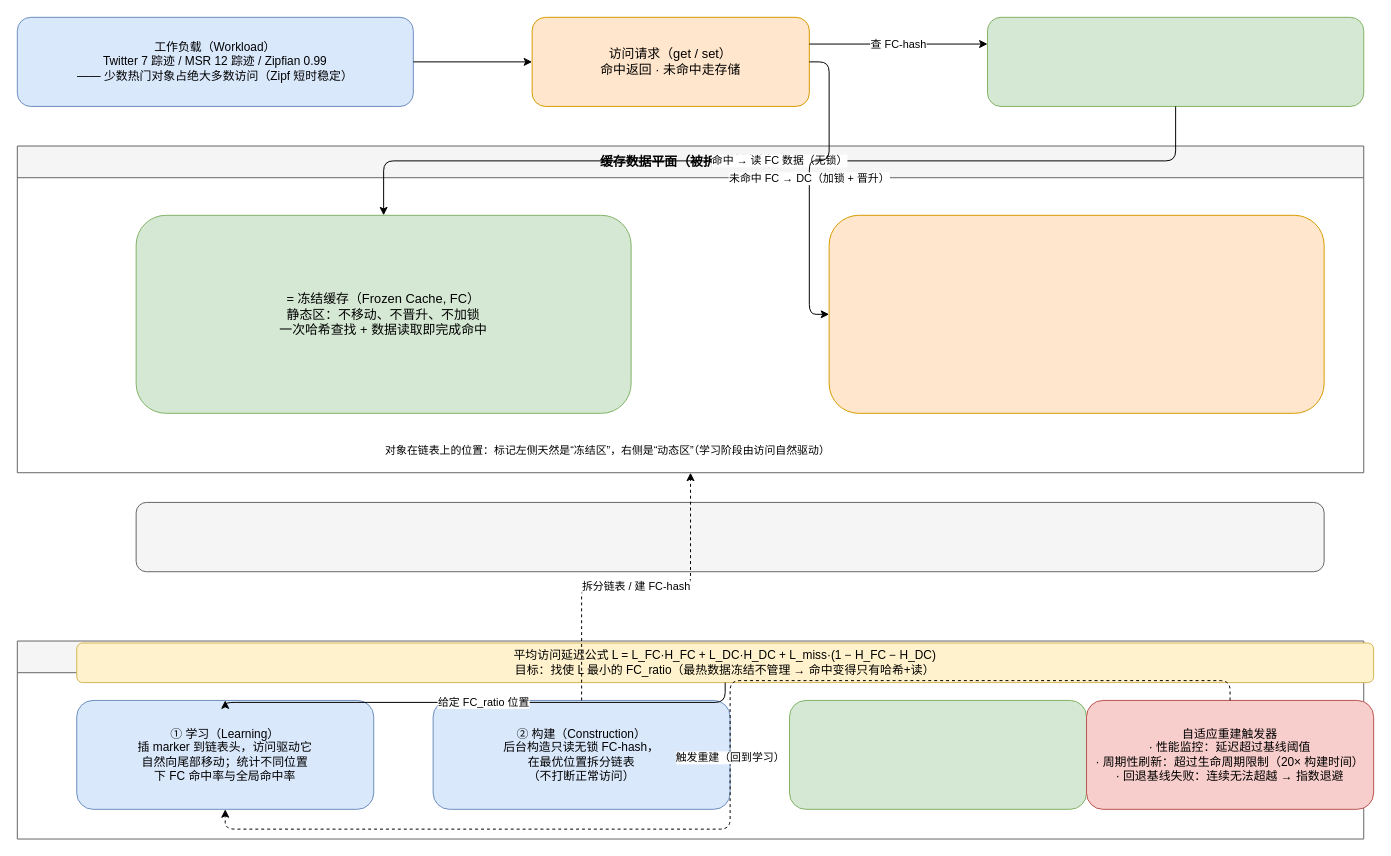
This 1391x856 diagram has some shape labels left out. Here are the shapes that lost their labels. From the top down, the centre of each, then its label:
point 1175,61: FC-hash：只读无锁哈希索引 放下层磁盘缓存热点，查询不需要锁
point 1076,313: = 动态缓存（Dynamic Cache, DC） 常规链表管理：LRU / LFU 命中需加锁 + 晋升到链头； 驱逐走正常路径
point 729,536: FC 命中：53%~93% 命中由 FC 服务 · 吞吐最高 +551%（72线程） DC 照常：命中率几乎不受影响（多数踪迹 <1% 下降）
point 938,754: ③ 冻结（Frozen） FC 保持静态，服务占主导时长 （远长于前两阶段）
